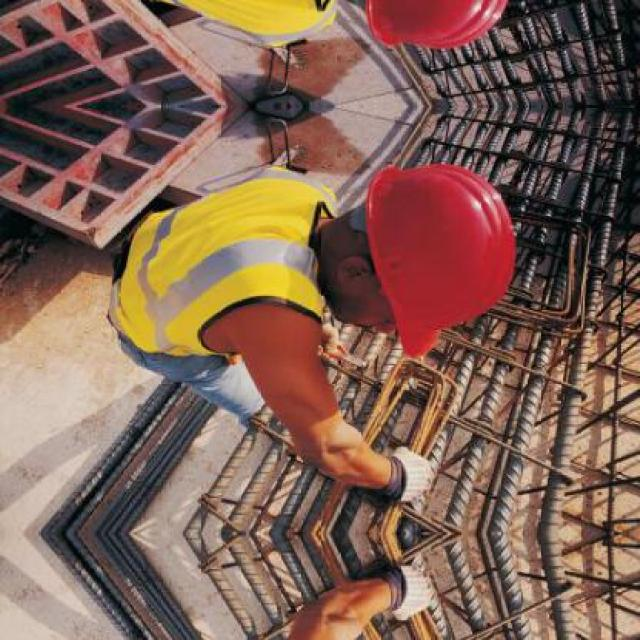helmet: (320, 152, 526, 352), (320, 0, 528, 62)
